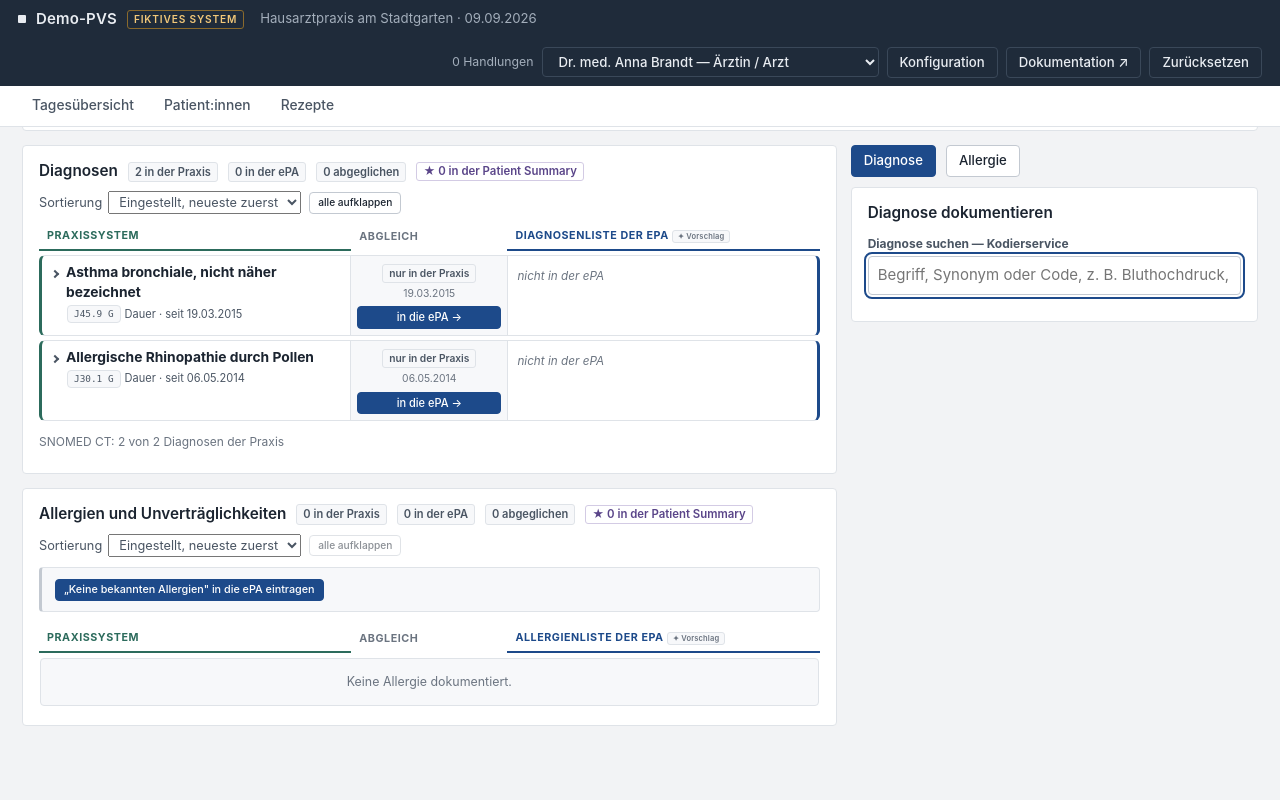
it: Splitscreen Diagnosen und Allergien › bietet „Keine bekannten Allergien" nur an, wo weder Praxis noch ePA eine Allergie führen
This screenshot has width=1280, height=800.
(page scrolled)
Step 1. Click the button "„Keine bekannten Allergien\" in die ePA eintragen" → (189, 590), box left=55, top=579, right=324, bottom=602
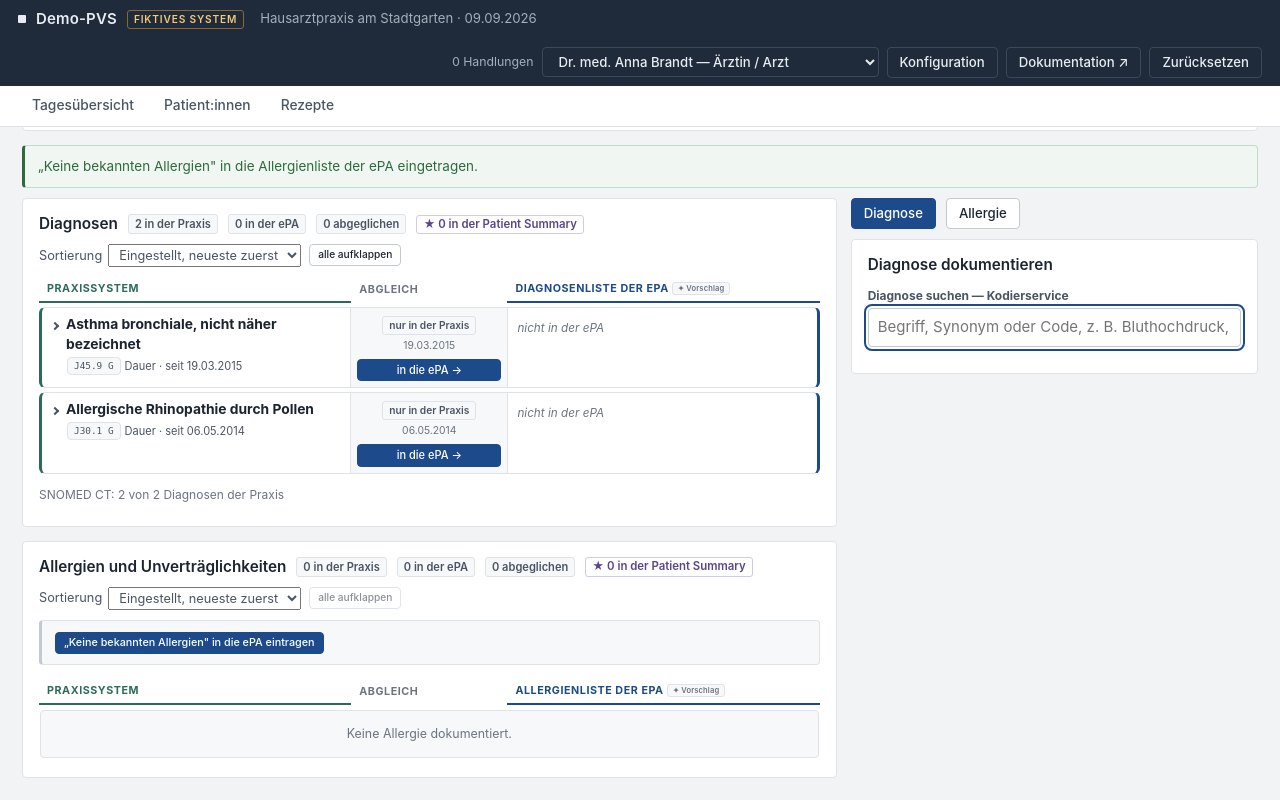
Now the text "„Keine bekannten Allergien\" in die Allergienliste der ePA eingetragen." is shown, box left=22, top=145, right=1258, bottom=188
